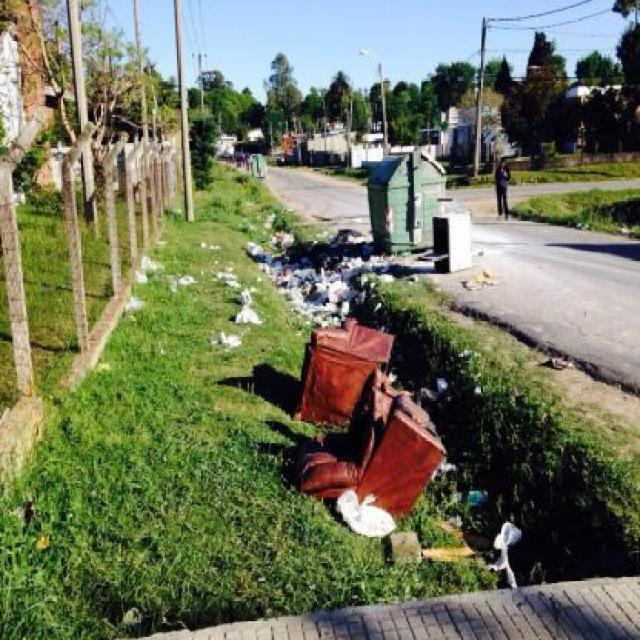garbage: (282, 279, 450, 555), (456, 483, 537, 576), (287, 251, 366, 320), (253, 219, 312, 286), (140, 253, 195, 289), (234, 282, 256, 326)
